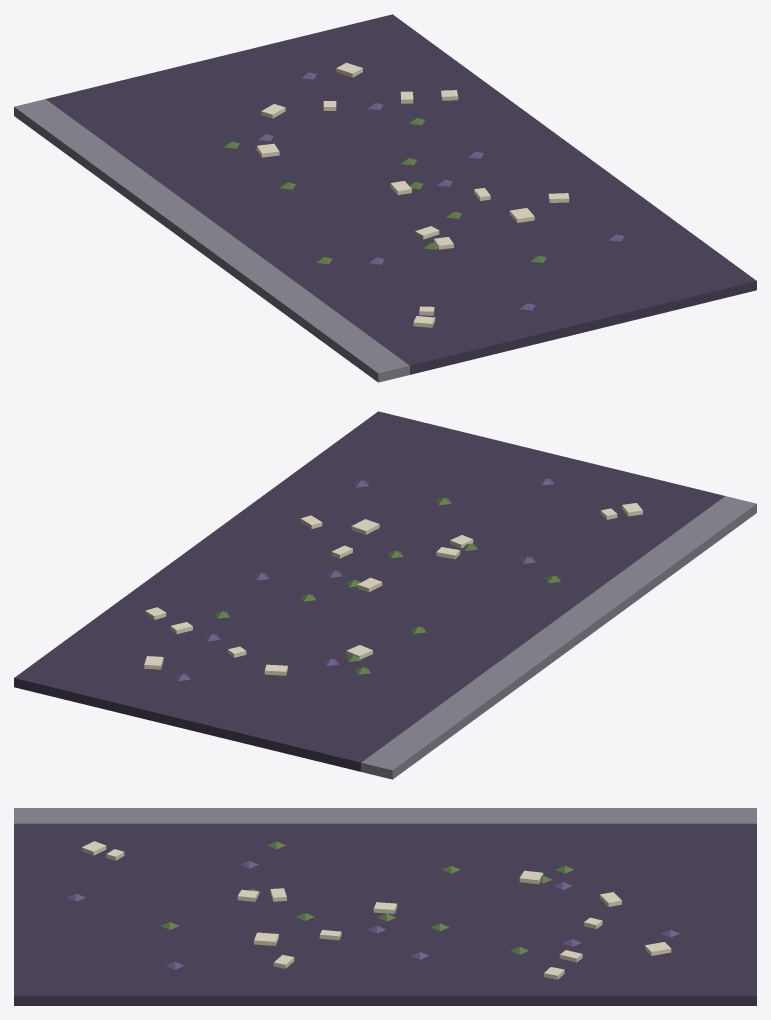
File: env_r4_verge.glb
3 renders of one model, top to bottom at view 1: azimuth 30°, elevation 25°; view 2: azimuth 150°, elevation 25°; view 3: azimuth 270°, elevation 25°, orthographic.
Parts seen in each view (by area): view 1: env_r4_verge; view 2: env_r4_verge; view 3: env_r4_verge.
Boxes of the visible parts, box(x1,y1,x2,y2) form: env_r4_verge: box(14, 14, 756, 382); env_r4_verge: box(14, 411, 756, 779); env_r4_verge: box(14, 808, 756, 1005).
Size of the model in its own units: 6 by 0.2 by 10.
1 material, 1 textured.
